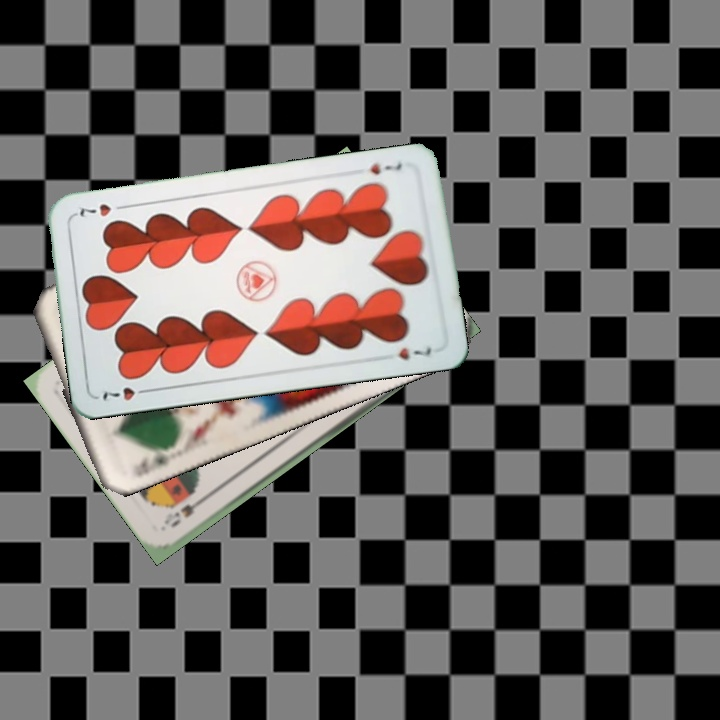GK: (135, 454, 165, 479)
H7: (98, 383, 155, 404), (366, 157, 404, 177)
SO: (159, 491, 211, 531)
